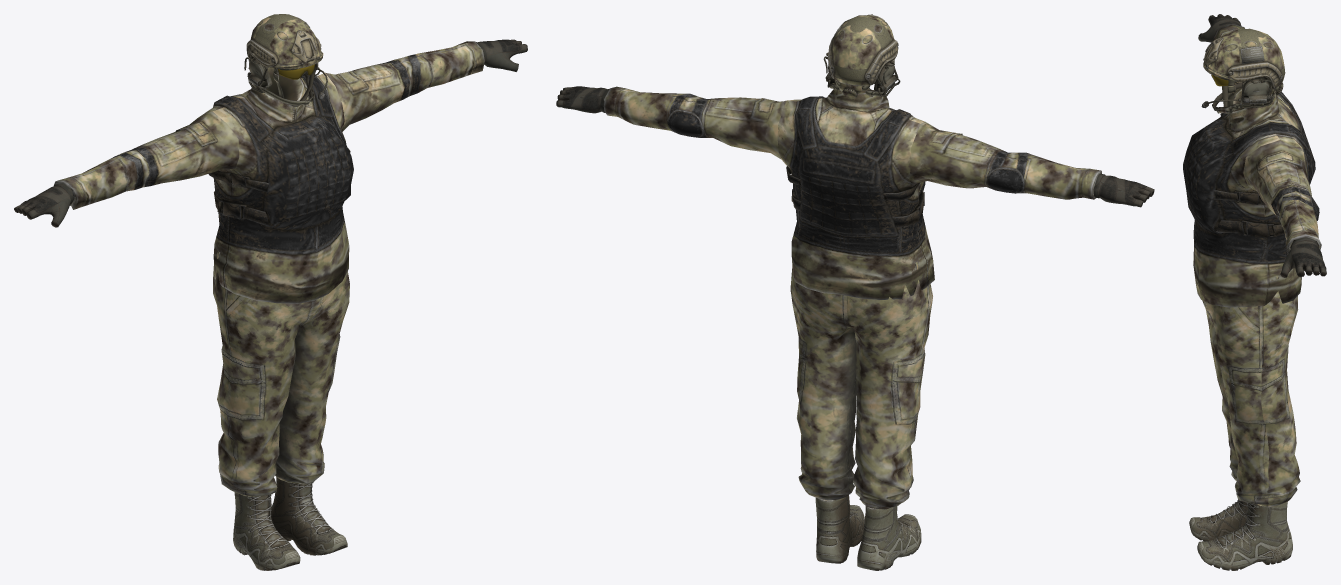
The picture shows the model from 3 angles, left to right: view 1: azimuth 30°, elevation 25°; view 2: azimuth 150°, elevation 25°; view 3: azimuth 270°, elevation 25°; orthographic projection. The views are drawn at different scales.
Visible parts, largest first — view 1: Tops, Bottoms, Shoes, Hats, Gloves; view 2: Tops, Bottoms, Shoes, Hats, Gloves; view 3: Tops, Bottoms, Shoes, Hats, Gloves.
Part boxes in pixels (x1,y1,x2,y2): Tops: [53, 41, 484, 303]; Bottoms: [213, 251, 349, 496]; Shoes: [233, 476, 347, 570]; Hats: [244, 14, 327, 106]; Gloves: [14, 39, 527, 227]; Tops: [603, 86, 1101, 299]; Bottoms: [790, 261, 932, 509]; Shoes: [815, 495, 921, 570]; Hats: [823, 14, 900, 98]; Gloves: [556, 86, 1154, 207]; Tops: [1183, 24, 1321, 307]; Bottoms: [1202, 276, 1300, 507]; Shoes: [1189, 499, 1292, 570]; Hats: [1201, 28, 1285, 113]; Gloves: [1198, 14, 1326, 277].
Bounding box in the file's own units: 201 × 188 × 47.13.
Materials: 8 (8 with a texture image).
